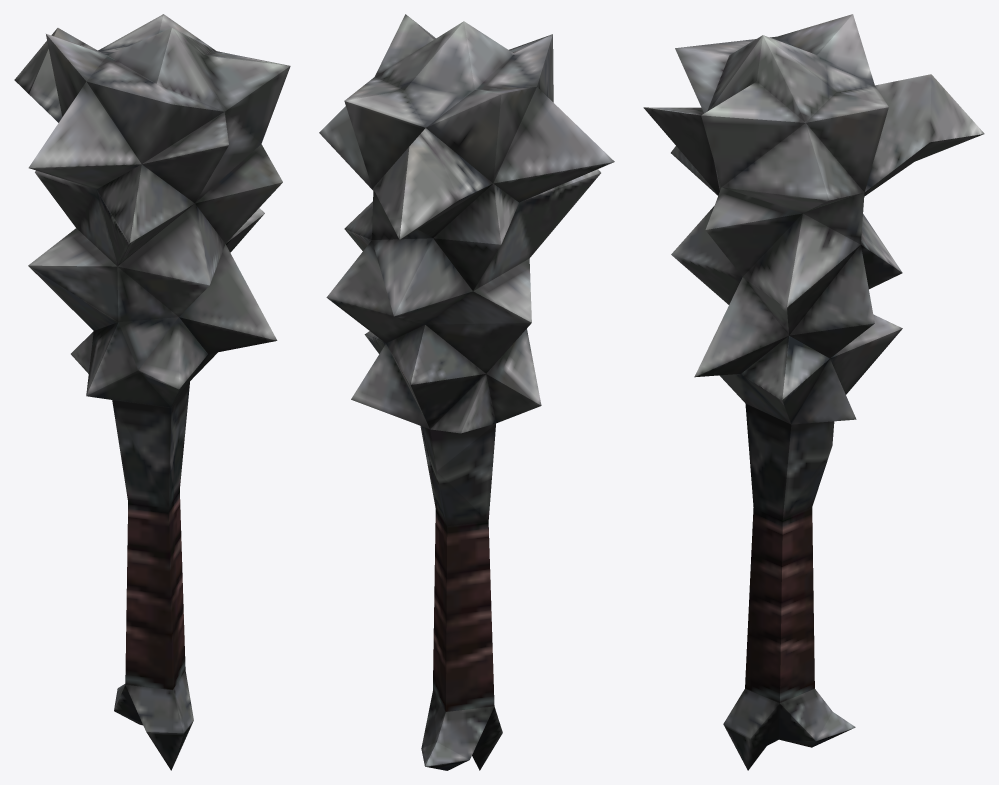
Rendered from hammer07_64c114ee.glb.
The picture shows the model from 3 angles, left to right: view 1: azimuth 30°, elevation 25°; view 2: azimuth 150°, elevation 25°; view 3: azimuth 270°, elevation 25°; orthographic projection. The views are drawn at different scales.
Size of the model in its own units: 0.484 by 1.34 by 0.5602.
1 material, 1 textured.
